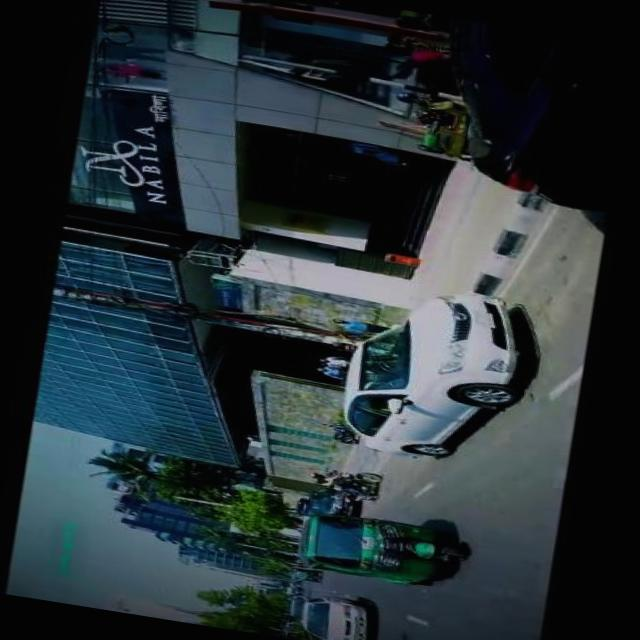car: (427, 23, 629, 216), (332, 272, 526, 472), (292, 591, 372, 640), (301, 485, 353, 519)
motorcycle: (292, 506, 464, 594), (329, 468, 379, 506), (288, 568, 316, 584)
